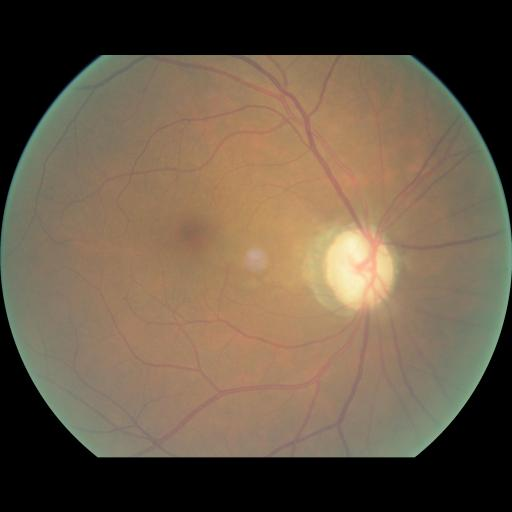Optic Disc: (324, 227, 392, 311)
